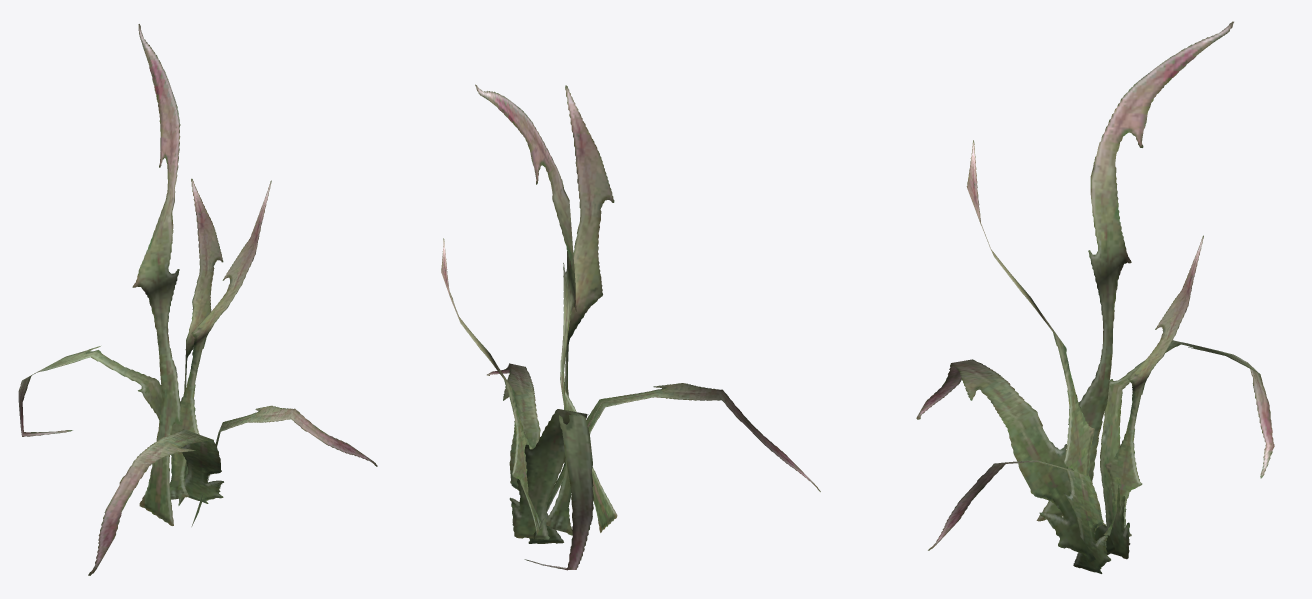
Rendered from core_leaf_razorgrass_mtns_a2_l0.fbx.
3 views of the same model, side by side, from view 1: azimuth 30°, elevation 25°; view 2: azimuth 150°, elevation 25°; view 3: azimuth 270°, elevation 25° (orthographic). The views are drawn at different scales.
Parts seen in each view (by area): view 1: mesh_node; view 2: mesh_node; view 3: mesh_node.
Part boxes in pixels (x1,y1,x2,y2): mesh_node: (18, 24, 377, 575); mesh_node: (441, 84, 820, 570); mesh_node: (916, 21, 1274, 573).
Size of the model in its own units: 0.8867 by 1.2 by 0.8367.
